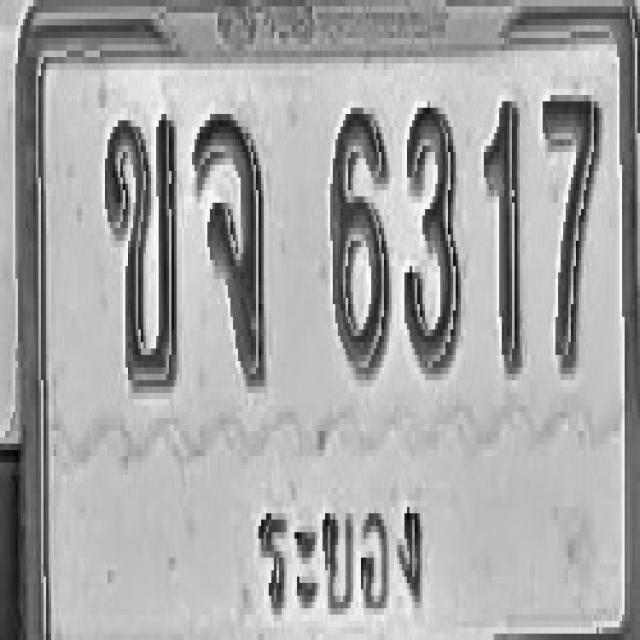1: (482, 95, 524, 374)
11KhorKhai: (104, 108, 178, 386)
17ChorChan: (192, 104, 266, 383)
3: (404, 98, 461, 371)
6: (330, 101, 389, 374)
7: (542, 86, 600, 370)
Rayong: (248, 475, 430, 640)
